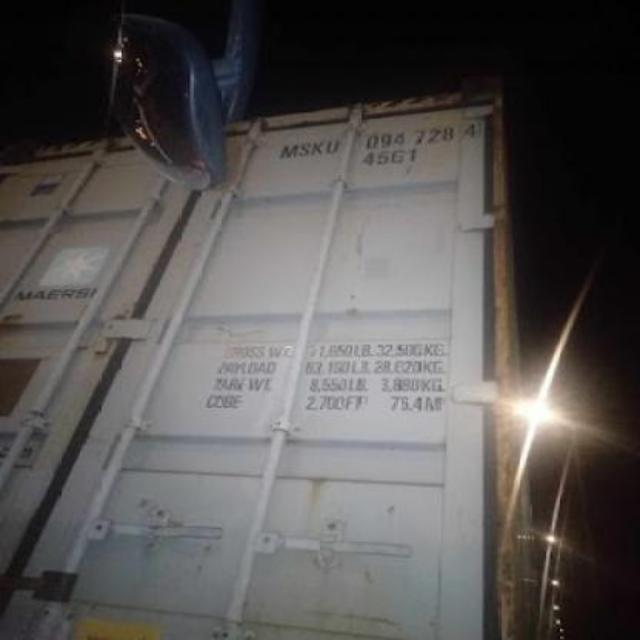0: (366, 134, 378, 148)
2: (426, 127, 442, 143)
4: (464, 122, 476, 138), (394, 132, 406, 146)
7: (414, 127, 424, 147)
8: (442, 126, 454, 142)
9: (378, 134, 392, 148)
K: (312, 142, 326, 154)
M: (280, 146, 300, 158)
S: (300, 141, 312, 157)
U: (326, 140, 339, 154)
